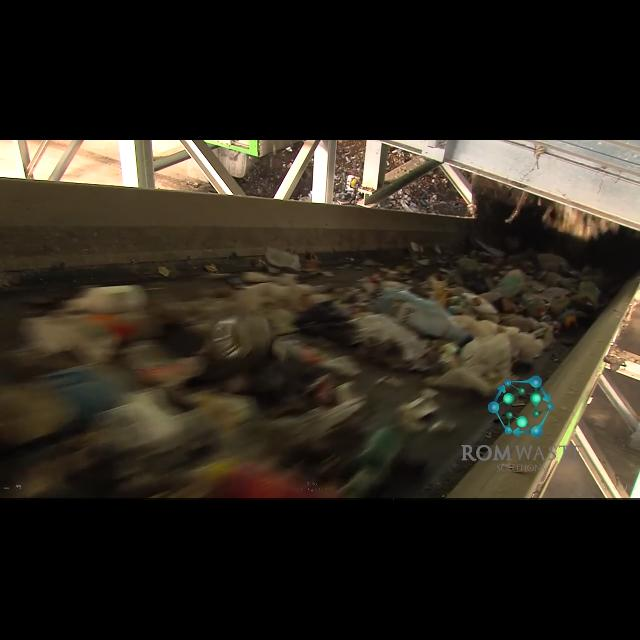trash: (374, 288, 474, 348), (519, 289, 547, 319)
